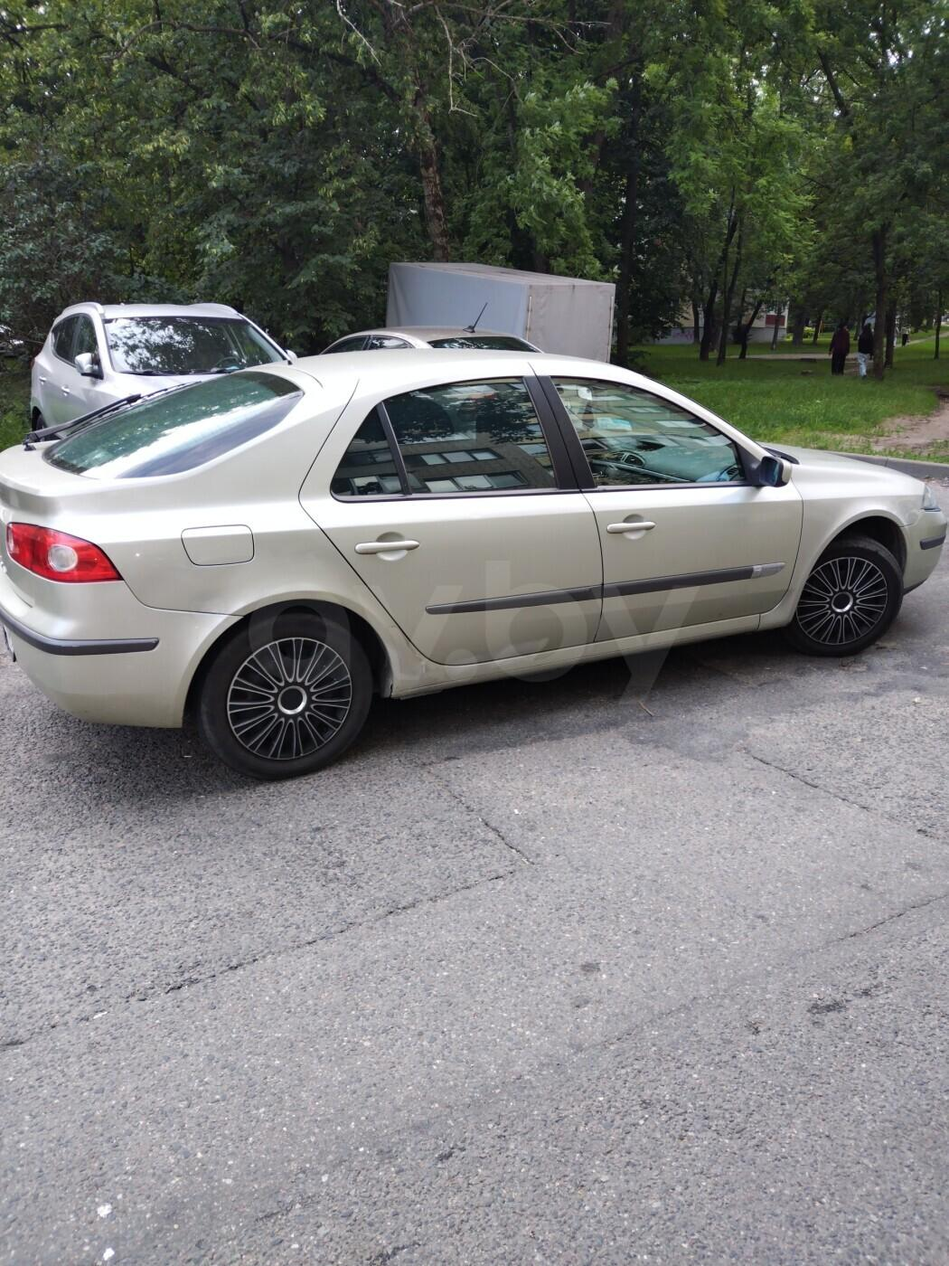Laguna_2005-2007: (0, 342, 949, 779)
